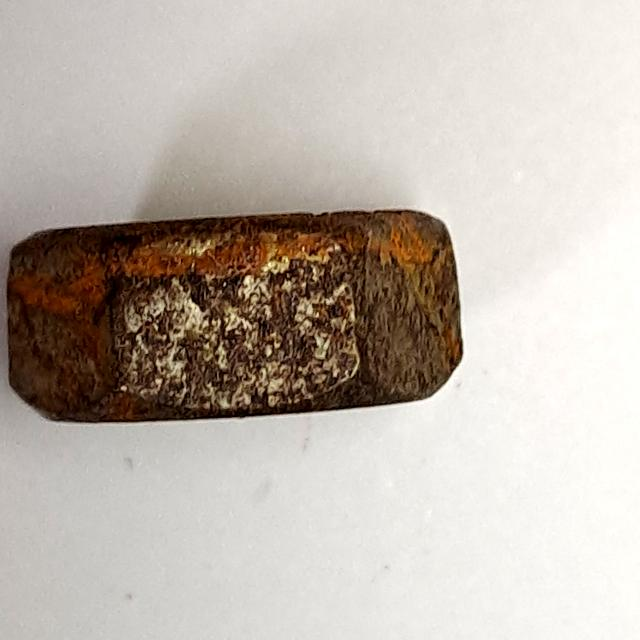Side_Rust: (2, 188, 480, 447)
